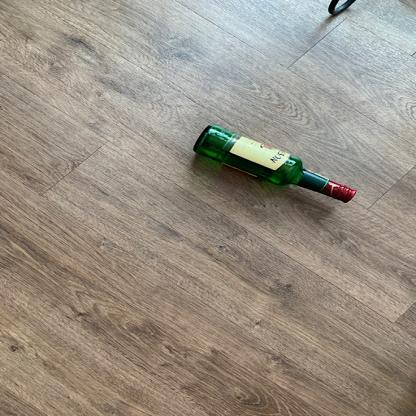trash: (192, 124, 360, 206)
